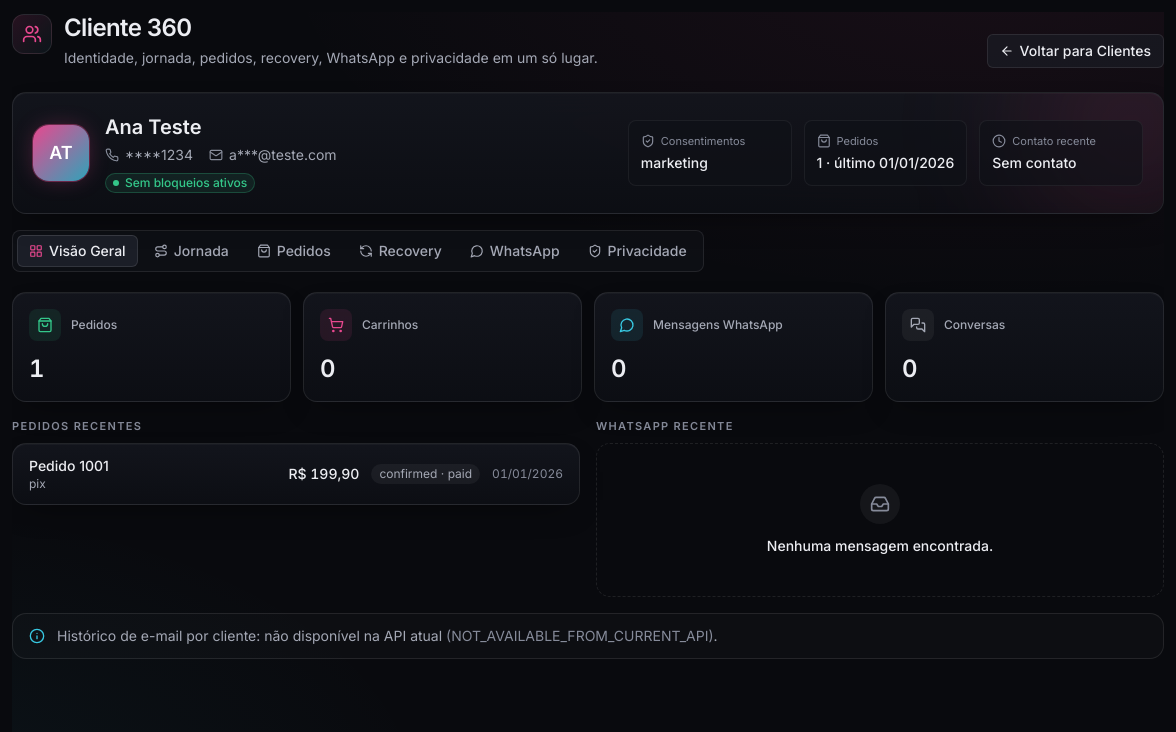
Test: CustomerDetailPage › aba Pedidos mostra o pedido real, aba Jornada busca /crm-api/journey/customer:<id>
Expected: the heading "Ana Teste" is shown, x1=105 y1=115 x2=202 y2=139
Click the tab "Pedidos": (294, 251) x1=245 y1=235 x2=343 y2=267
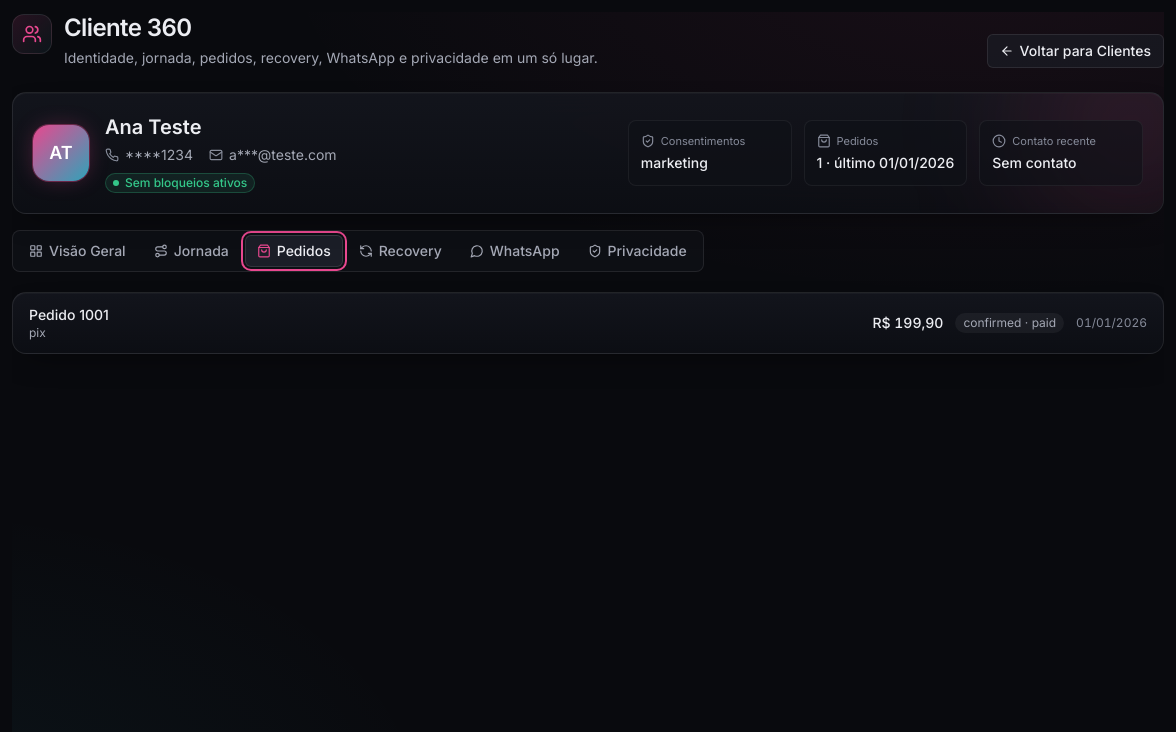
Expected: the text "Pedido 1001" is shown, x1=29 y1=305 x2=109 y2=325
Click the tab "Jornada": (191, 251) x1=142 y1=235 x2=241 y2=267
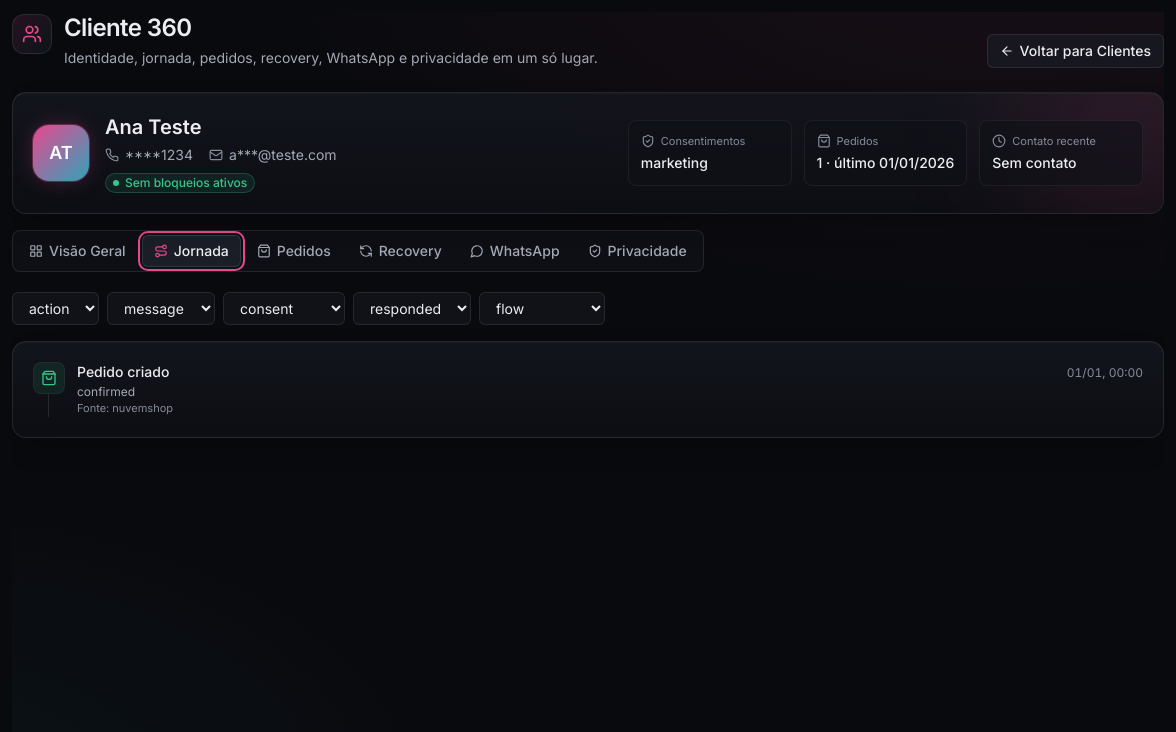
Result: the text "Pedido criado" is shown at x1=77 y1=362 x2=169 y2=382
